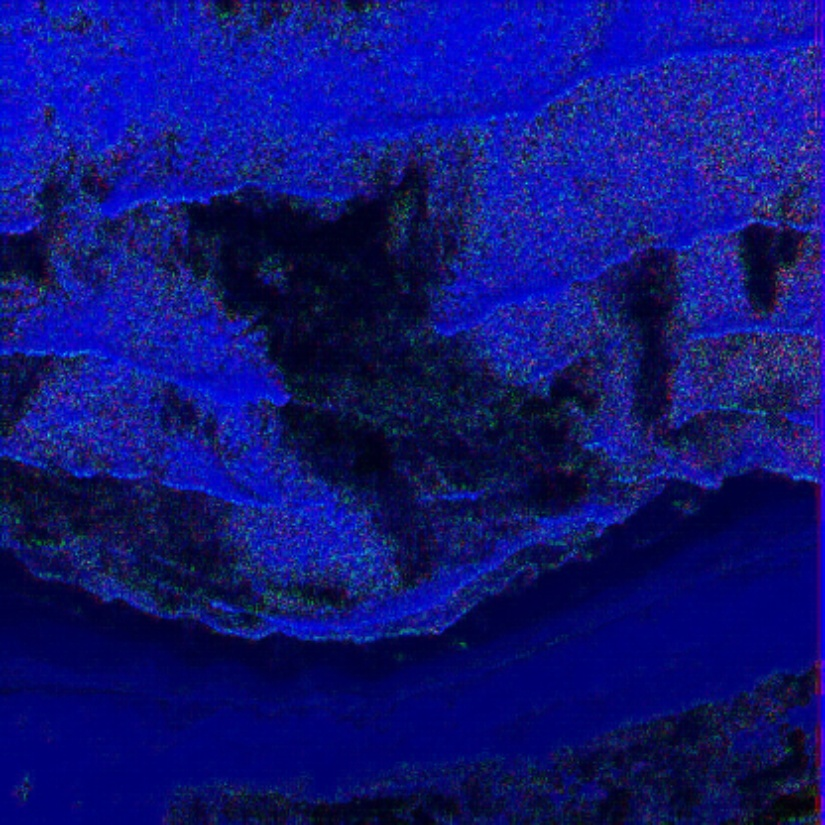rip_current: (145, 149, 575, 526)
